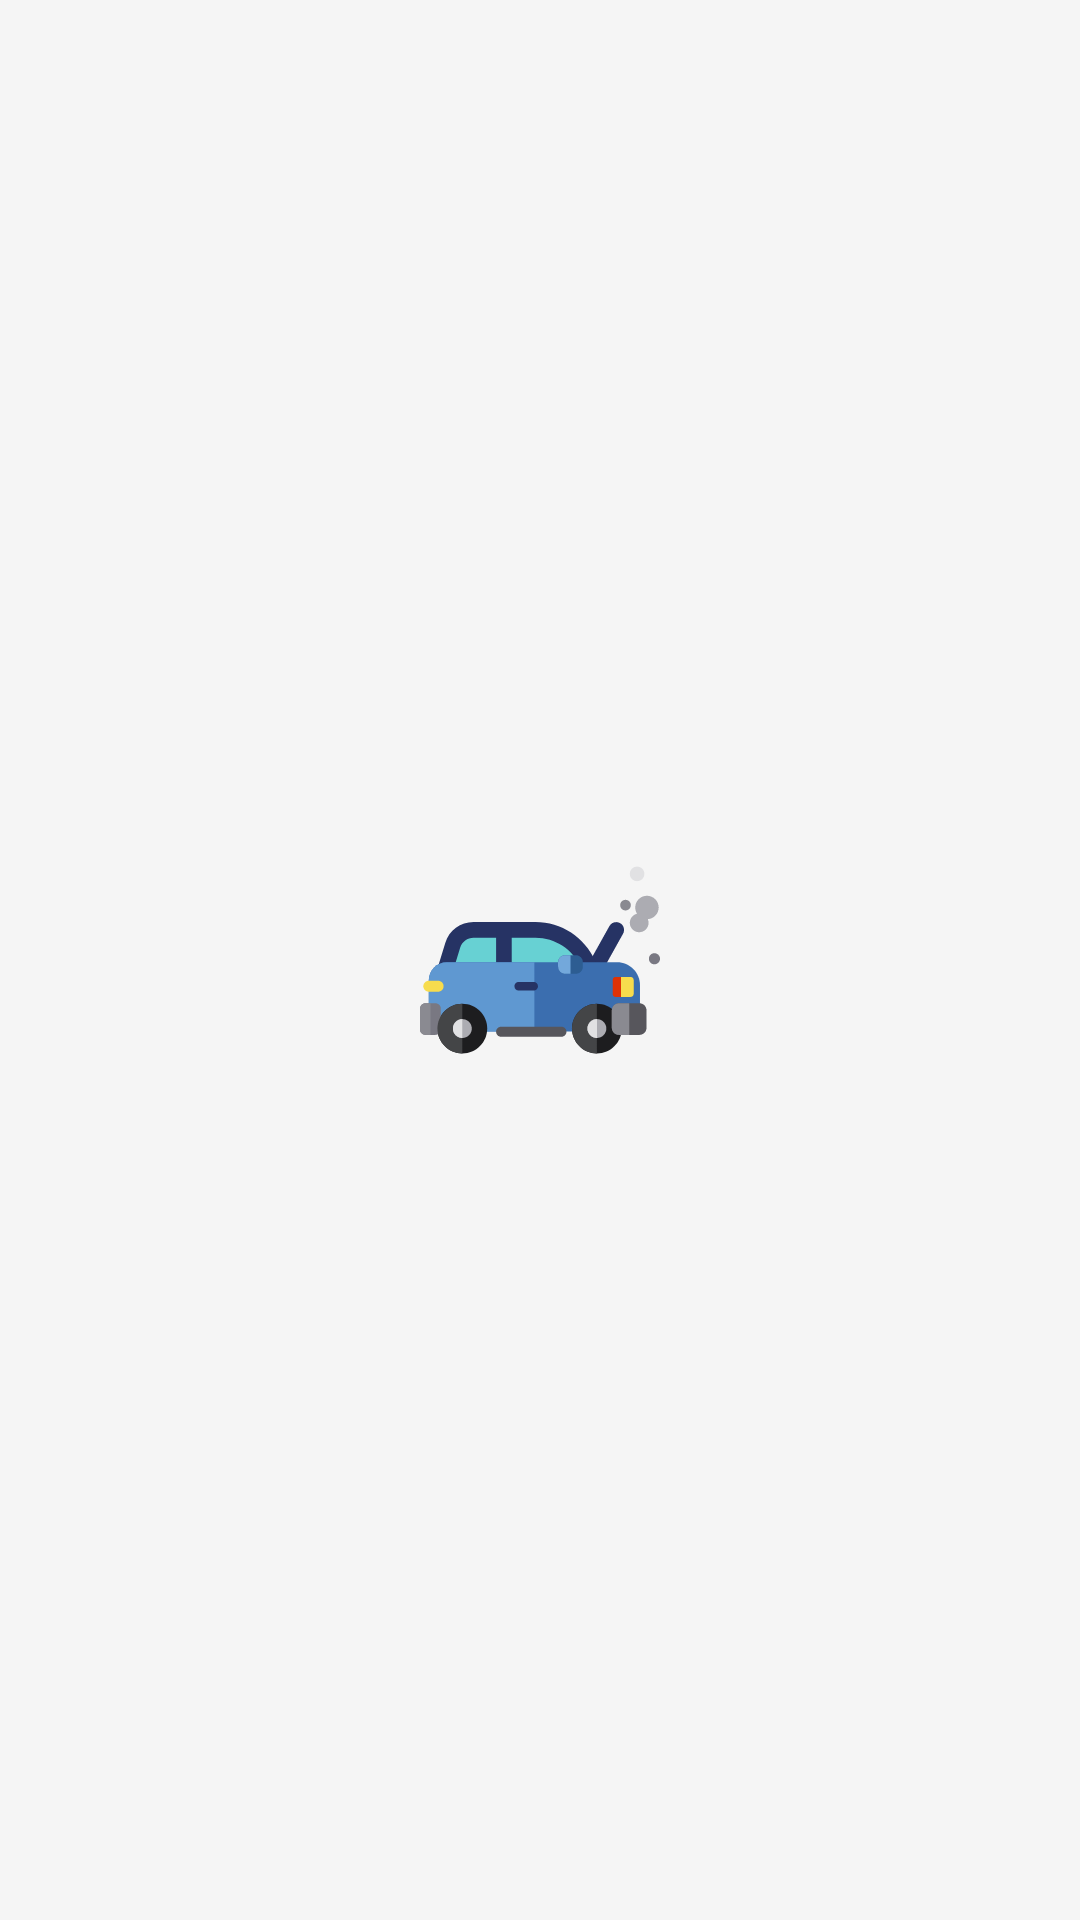

Icons on this 1080px x 1920px Android screen, each with the point to tap as point (x, y):
error breakdown: point (540, 975)
